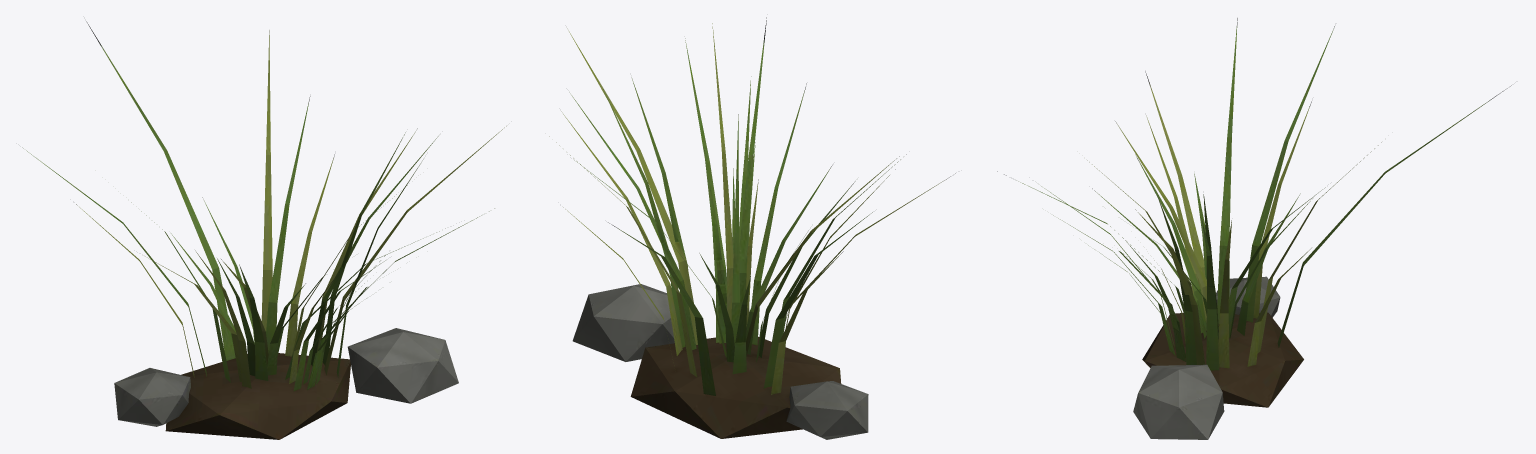
Rendered from bush_water_sedge_idle.glb.
The picture shows the model from 3 angles, left to right: view 1: azimuth 30°, elevation 25°; view 2: azimuth 150°, elevation 25°; view 3: azimuth 270°, elevation 25°; orthographic projection. The views are drawn at different scales.
Visible parts, largest first — view 1: bush_water_sedge; view 2: bush_water_sedge; view 3: bush_water_sedge.
Part boxes in pixels (box(x1,y1,x2,y2)): bush_water_sedge: box(22, 21, 506, 439); bush_water_sedge: box(549, 17, 955, 439); bush_water_sedge: box(997, 18, 1511, 439).
Bounding box in the file's own units: 0.889 × 0.6696 × 1.05.
Materials: 1 (1 with a texture image).
